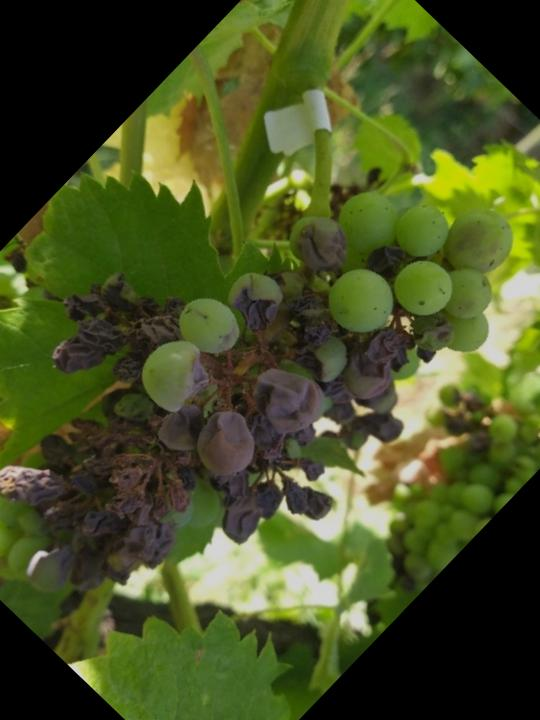grape: (0, 33, 540, 720)
